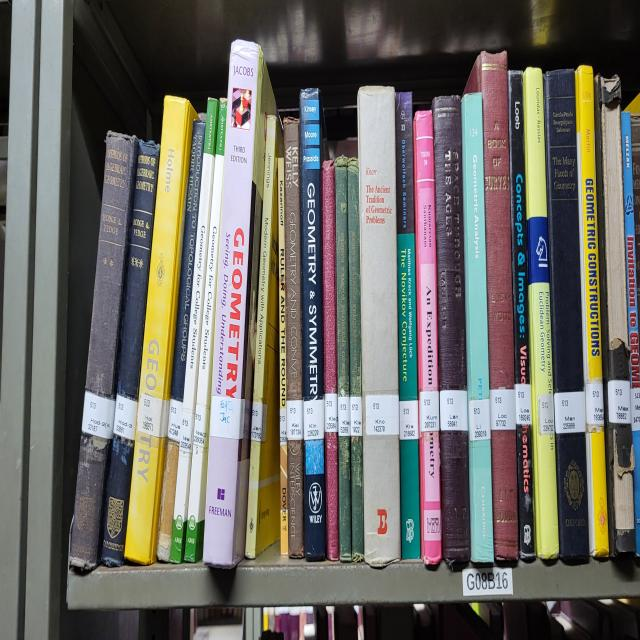Book: (204, 41, 275, 568), (125, 95, 196, 565), (70, 133, 138, 571), (465, 51, 519, 560), (100, 141, 160, 565), (542, 70, 589, 560), (170, 97, 219, 563), (158, 119, 205, 563), (358, 87, 401, 565), (594, 76, 635, 557), (184, 97, 226, 563), (432, 95, 470, 565), (524, 68, 559, 560), (245, 116, 284, 557), (575, 65, 609, 557), (461, 92, 494, 563), (414, 111, 442, 565), (509, 73, 535, 560), (300, 89, 326, 560), (284, 119, 305, 557), (621, 111, 640, 555), (398, 233, 420, 560), (322, 160, 339, 560), (335, 160, 351, 560), (348, 160, 364, 560), (279, 162, 289, 555), (199, 476, 200, 479)
Label: (81, 390, 115, 438), (210, 395, 245, 438), (138, 392, 170, 438), (365, 395, 399, 436), (554, 390, 585, 433), (440, 390, 468, 430), (490, 387, 516, 430), (114, 395, 138, 441), (608, 379, 631, 425), (585, 381, 604, 430), (304, 398, 325, 441), (419, 390, 440, 433), (469, 398, 490, 441), (399, 400, 419, 441), (286, 400, 304, 441), (539, 392, 555, 436), (251, 400, 268, 441), (194, 403, 210, 446), (515, 384, 531, 425), (168, 398, 182, 444), (180, 411, 194, 452), (324, 392, 338, 433), (338, 395, 350, 436), (350, 395, 362, 436), (630, 387, 640, 433), (280, 409, 286, 446)
